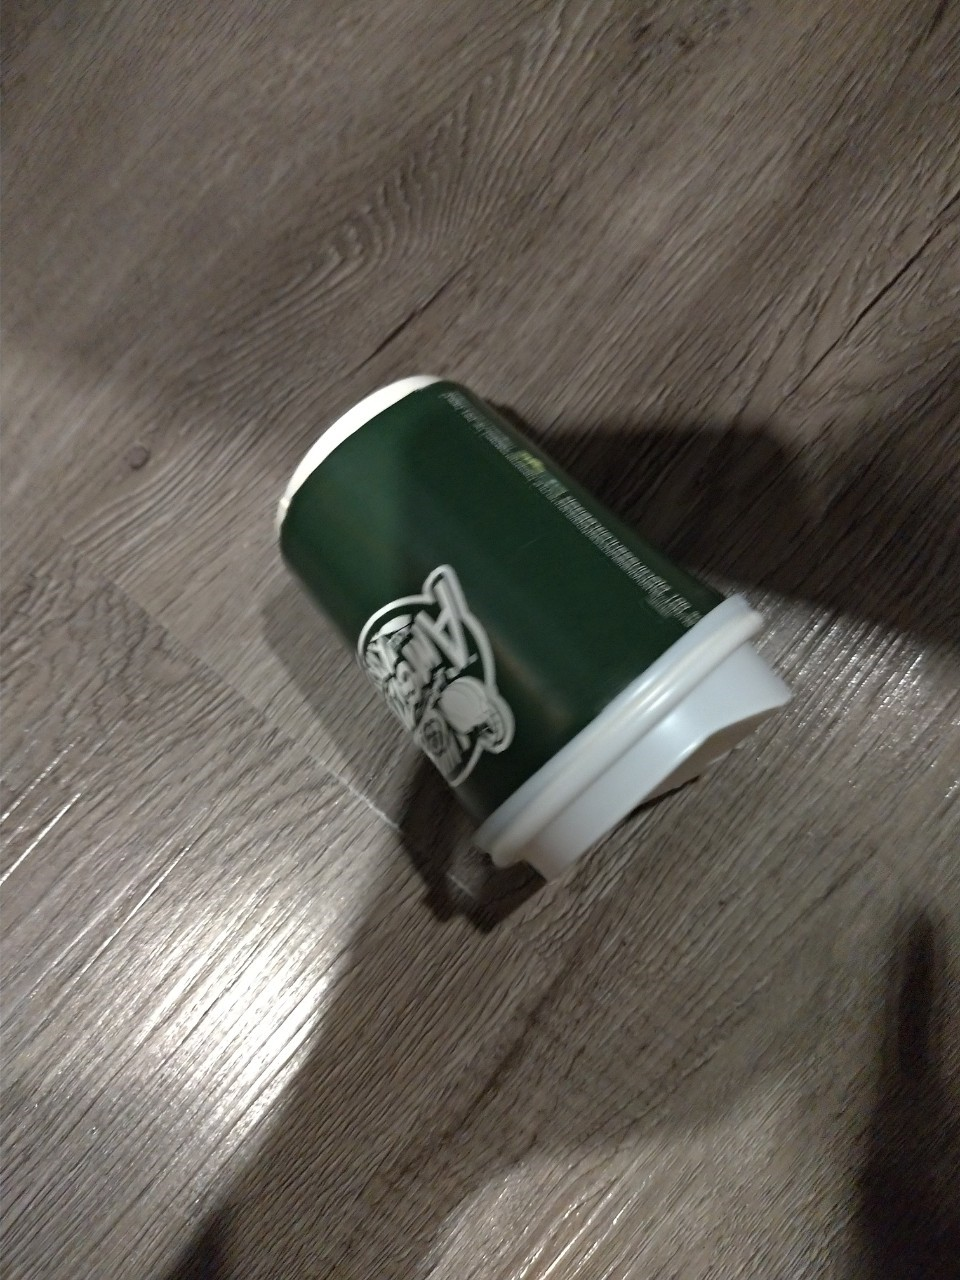PaperCup: (275, 368, 795, 880)
